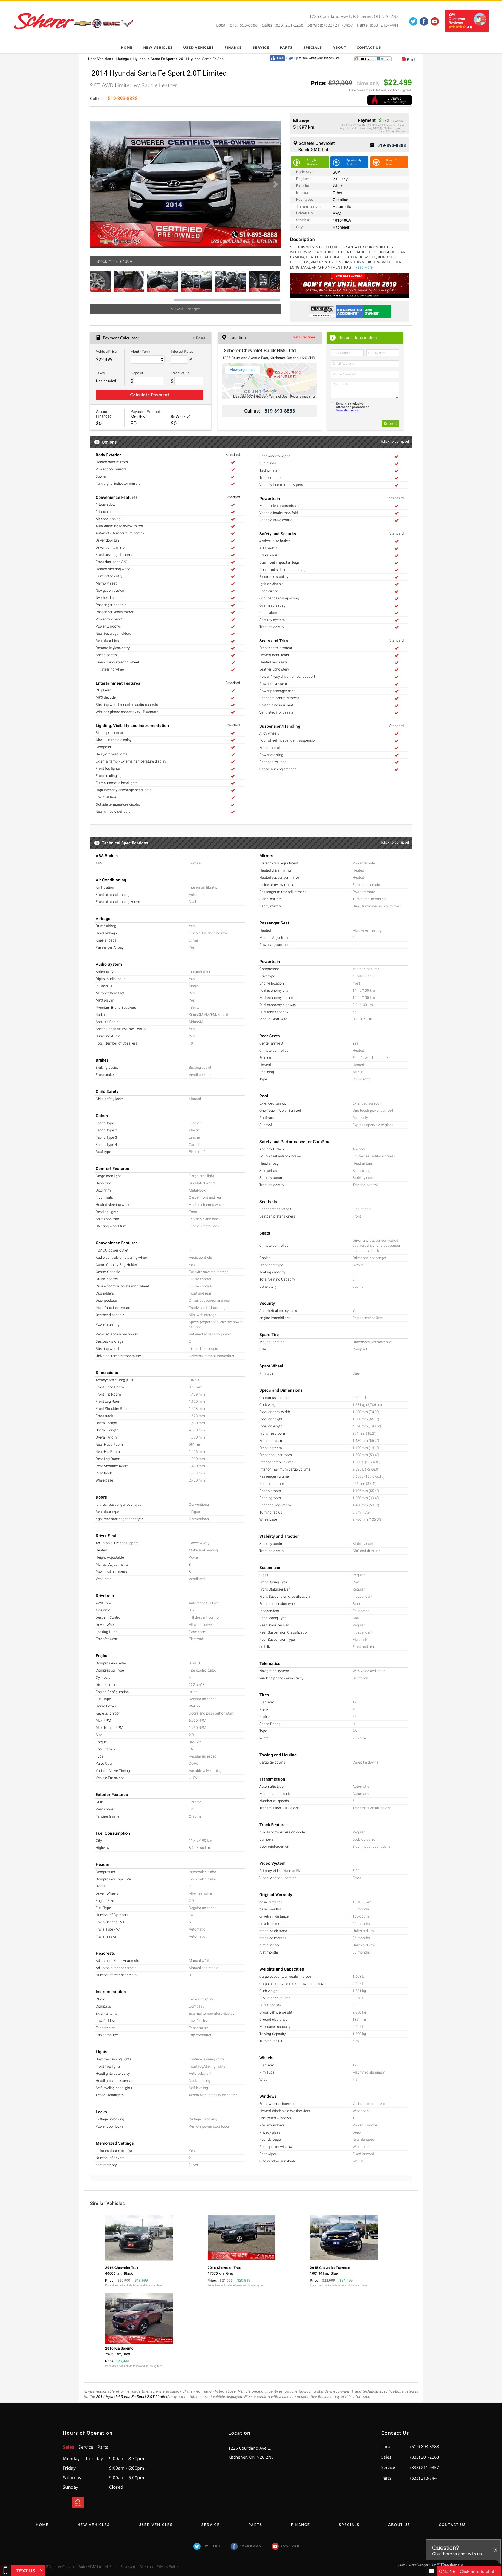car: (273, 181, 278, 189)
